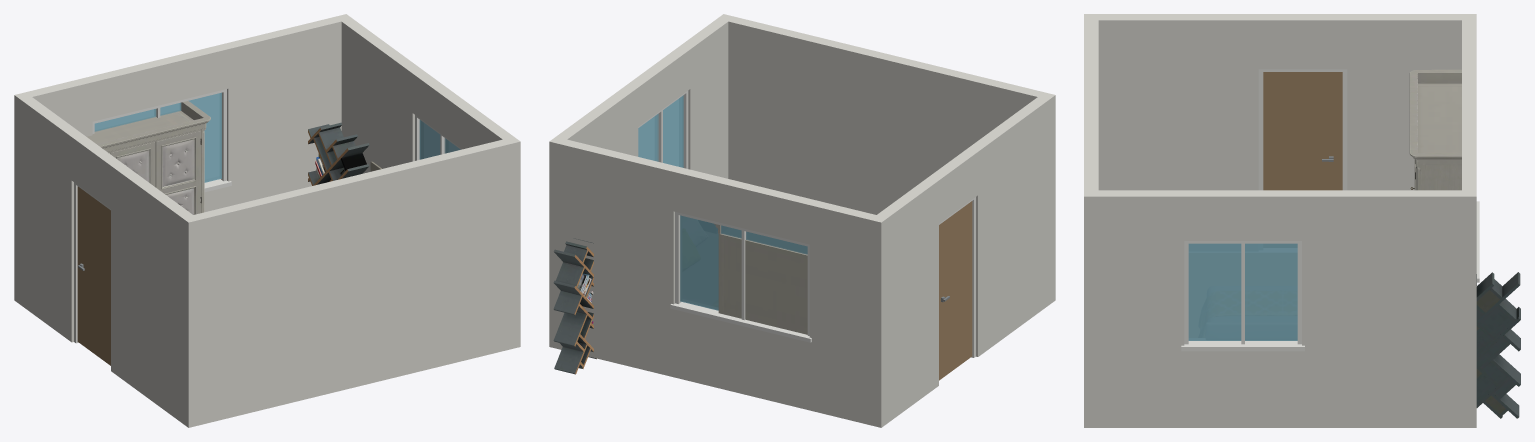
Rendered from atiss.glb.
The picture shows the model from 3 angles, left to right: view 1: azimuth 30°, elevation 25°; view 2: azimuth 150°, elevation 25°; view 3: azimuth 270°, elevation 25°; orthographic projection. The views are drawn at different scales.
Parts seen in each view (by area): view 1: wall|scenesmith_024__R00|0, wall|scenesmith_024__R00|2, wall|scenesmith_024__R00|1, wall|scenesmith_024__R00|3, raw_model.002, wall|scenesmith_024__R00|2 Door 0 | wood leaf, raw_model, wall|scenesmith_024__R00|1 Window 0 | glazing, wall|scenesmith_024__R00|1 Window 0 | jamb, wall|scenesmith_024__R00|3 Window 0 | glazing, wall|scenesmith_024__R00|2 Door 0 | jamb; view 2: wall|scenesmith_024__R00|1, wall|scenesmith_024__R00|0, wall|scenesmith_024__R00|2, wall|scenesmith_024__R00|3, raw_model.002, wall|scenesmith_024__R00|2 Door 0 | wood leaf, raw_model, wall|scenesmith_024__R00|1 Window 0 | glazing, wall|scenesmith_024__R00|1 Window 0 | jamb, wall|scenesmith_024__R00|3 Window 0 | glazing, wall|scenesmith_024__R00|3 Window 0 | jamb, wall|scenesmith_024__R00|2 Door 0 | jamb; view 3: wall|scenesmith_024__R00|3, wall|scenesmith_024__R00|2, wall|scenesmith_024__R00|3 Window 0 | glazing, wall|scenesmith_024__R00|2 Door 0 | wood leaf, raw_model.002, raw_model, wall|scenesmith_024__R00|3 Window 0 | jamb, wall|scenesmith_024__R00|0, wall|scenesmith_024__R00|1, wall|scenesmith_024__R00|2 Door 0 | jamb.
Boxes of the visible parts, x1=… form: wall|scenesmith_024__R00|0: x1=182, y1=137, x2=520, y2=427; wall|scenesmith_024__R00|2: x1=14, y1=92, x2=199, y2=427; wall|scenesmith_024__R00|1: x1=14, y1=14, x2=352, y2=304; wall|scenesmith_024__R00|3: x1=341, y1=19, x2=520, y2=347; raw_model.002: x1=86, y1=101, x2=210, y2=214; wall|scenesmith_024__R00|2 Door 0 | wood leaf: x1=77, y1=186, x2=110, y2=365; raw_model: x1=308, y1=122, x2=369, y2=185; wall|scenesmith_024__R00|1 Window 0 | glazing: x1=94, y1=92, x2=221, y2=182; wall|scenesmith_024__R00|1 Window 0 | jamb: x1=92, y1=89, x2=231, y2=192; wall|scenesmith_024__R00|3 Window 0 | glazing: x1=419, y1=120, x2=460, y2=159; wall|scenesmith_024__R00|2 Door 0 | jamb: x1=74, y1=182, x2=110, y2=343; wall|scenesmith_024__R00|1: x1=549, y1=137, x2=887, y2=427; wall|scenesmith_024__R00|0: x1=717, y1=14, x2=1055, y2=304; wall|scenesmith_024__R00|2: x1=870, y1=92, x2=1055, y2=422; wall|scenesmith_024__R00|3: x1=556, y1=19, x2=728, y2=178; raw_model.002: x1=714, y1=223, x2=807, y2=334; wall|scenesmith_024__R00|2 Door 0 | wood leaf: x1=939, y1=201, x2=972, y2=380; raw_model: x1=553, y1=238, x2=596, y2=374; wall|scenesmith_024__R00|1 Window 0 | glazing: x1=680, y1=215, x2=807, y2=310; wall|scenesmith_024__R00|1 Window 0 | jamb: x1=670, y1=212, x2=811, y2=342; wall|scenesmith_024__R00|3 Window 0 | glazing: x1=638, y1=95, x2=683, y2=167; wall|scenesmith_024__R00|3 Window 0 | jamb: x1=638, y1=90, x2=688, y2=168; wall|scenesmith_024__R00|2 Door 0 | jamb: x1=939, y1=197, x2=975, y2=357; wall|scenesmith_024__R00|3: x1=1084, y1=190, x2=1476, y2=427; wall|scenesmith_024__R00|2: x1=1084, y1=14, x2=1476, y2=190; wall|scenesmith_024__R00|3 Window 0 | glazing: x1=1188, y1=243, x2=1297, y2=340; wall|scenesmith_024__R00|2 Door 0 | wood leaf: x1=1263, y1=72, x2=1342, y2=190; raw_model.002: x1=1409, y1=69, x2=1461, y2=190; raw_model: x1=1476, y1=272, x2=1520, y2=418; wall|scenesmith_024__R00|3 Window 0 | jamb: x1=1181, y1=241, x2=1304, y2=351; wall|scenesmith_024__R00|0: x1=1084, y1=20, x2=1098, y2=196; wall|scenesmith_024__R00|1: x1=1462, y1=20, x2=1476, y2=196; wall|scenesmith_024__R00|2 Door 0 | jamb: x1=1258, y1=69, x2=1347, y2=190.
Bounding box in the file's own units: 4.43 × 2.65 × 4.45.
Materials: 11 (5 with a texture image).
